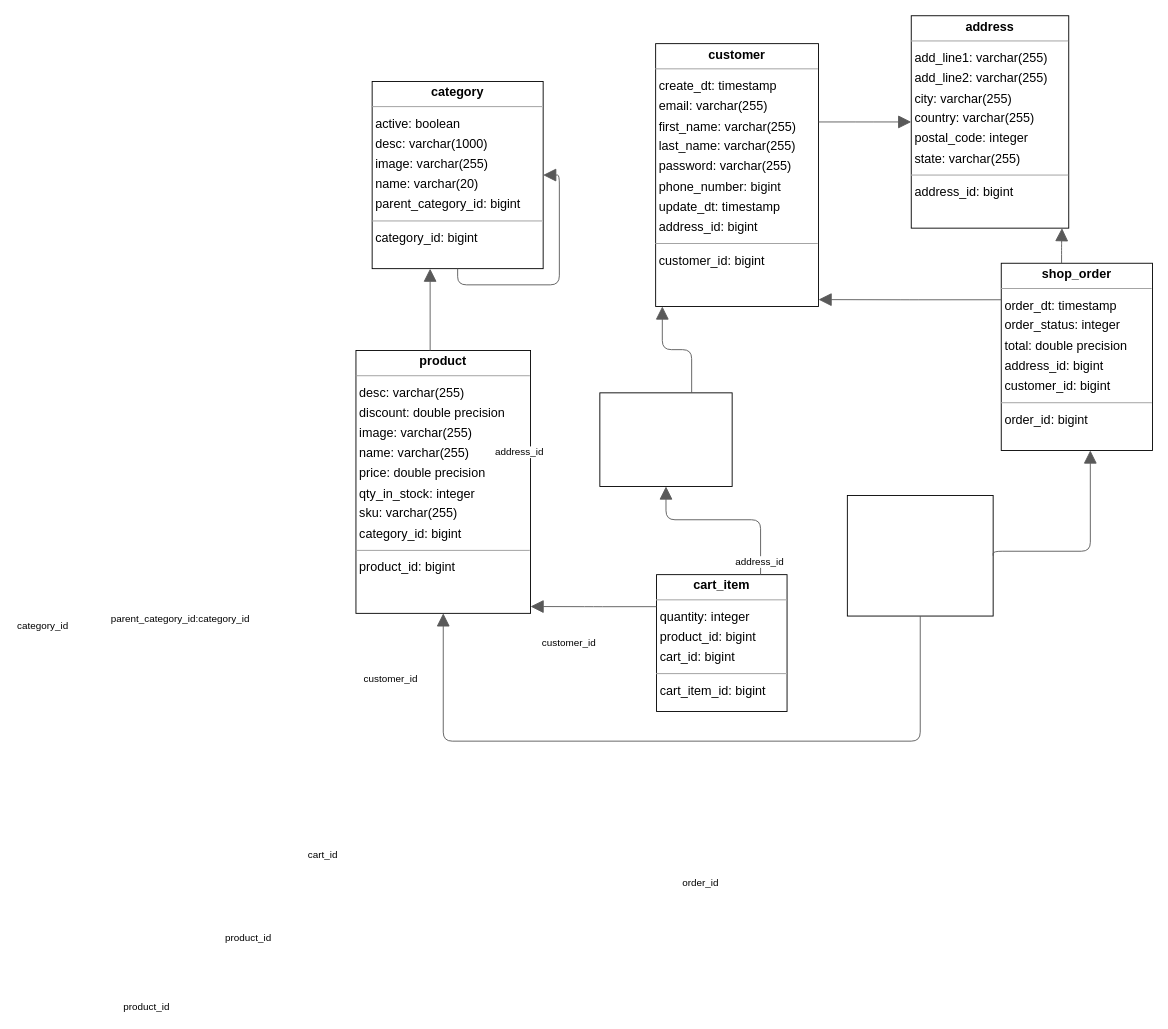
The diagram is 1168 pixels wide and 1029 high, and some of its shapes have lost their labels. Each missing label, with the centre of its shape:
cart customer_id: bigint cart_id: bigint: [665,439]
order_detail order_id: bigint product_id: bigint order_detail_id: bigint: [919,555]
